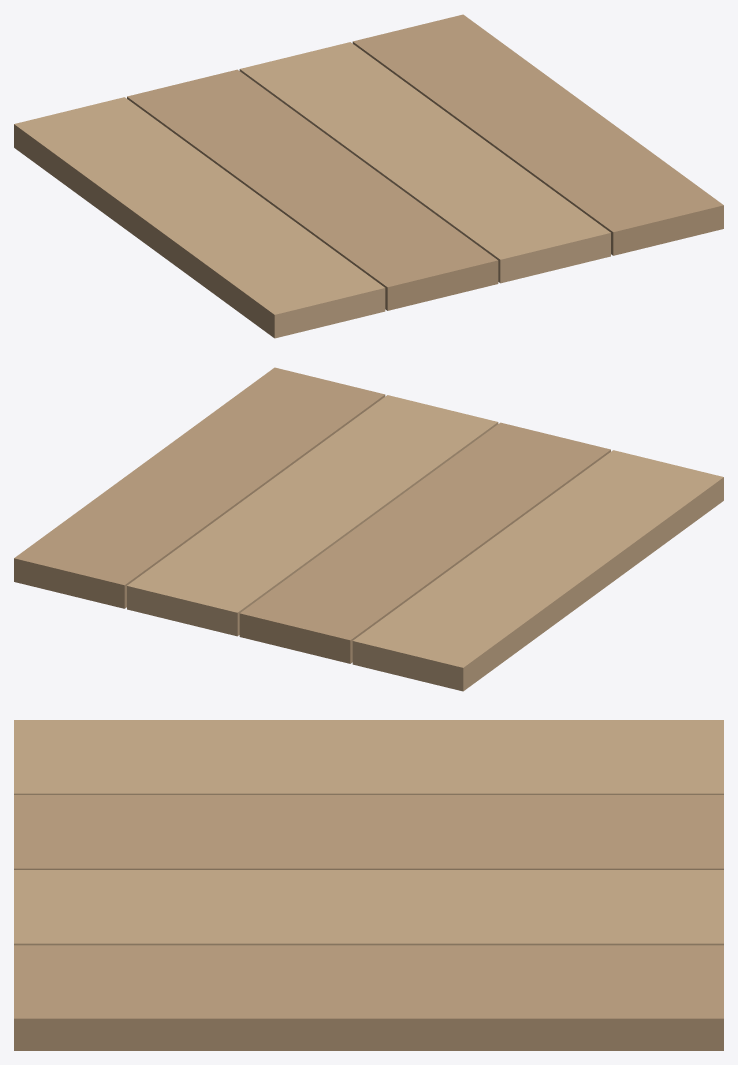
Rendered from floor_wood.glb.
3 renders of one model, top to bottom at view 1: azimuth 30°, elevation 25°; view 2: azimuth 150°, elevation 25°; view 3: azimuth 270°, elevation 25°, orthographic. The views are drawn at different scales.
Visible parts, largest first — view 1: floor_wood; view 2: floor_wood; view 3: floor_wood.
Boxes of the visible parts, x1,y1,x2,y2 form: floor_wood: [14, 14, 723, 338]; floor_wood: [14, 367, 723, 691]; floor_wood: [14, 720, 723, 1050].
Size of the model in its own units: 0.995 by 0.05 by 1.
